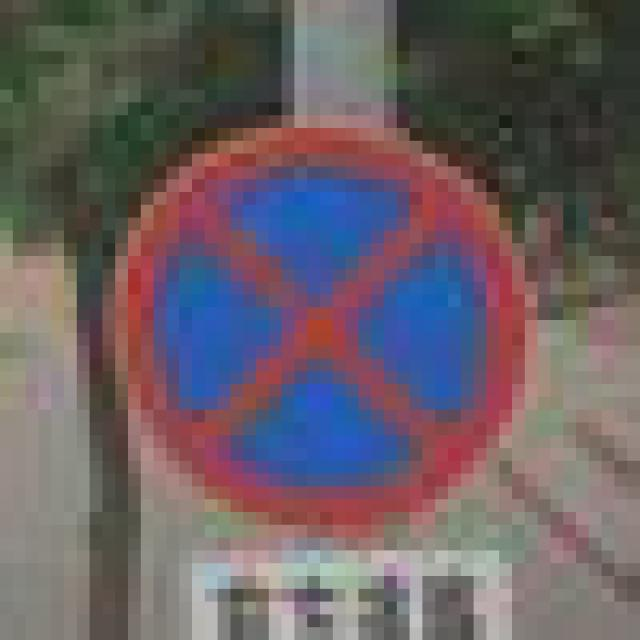no_parking: (102, 115, 525, 525)
